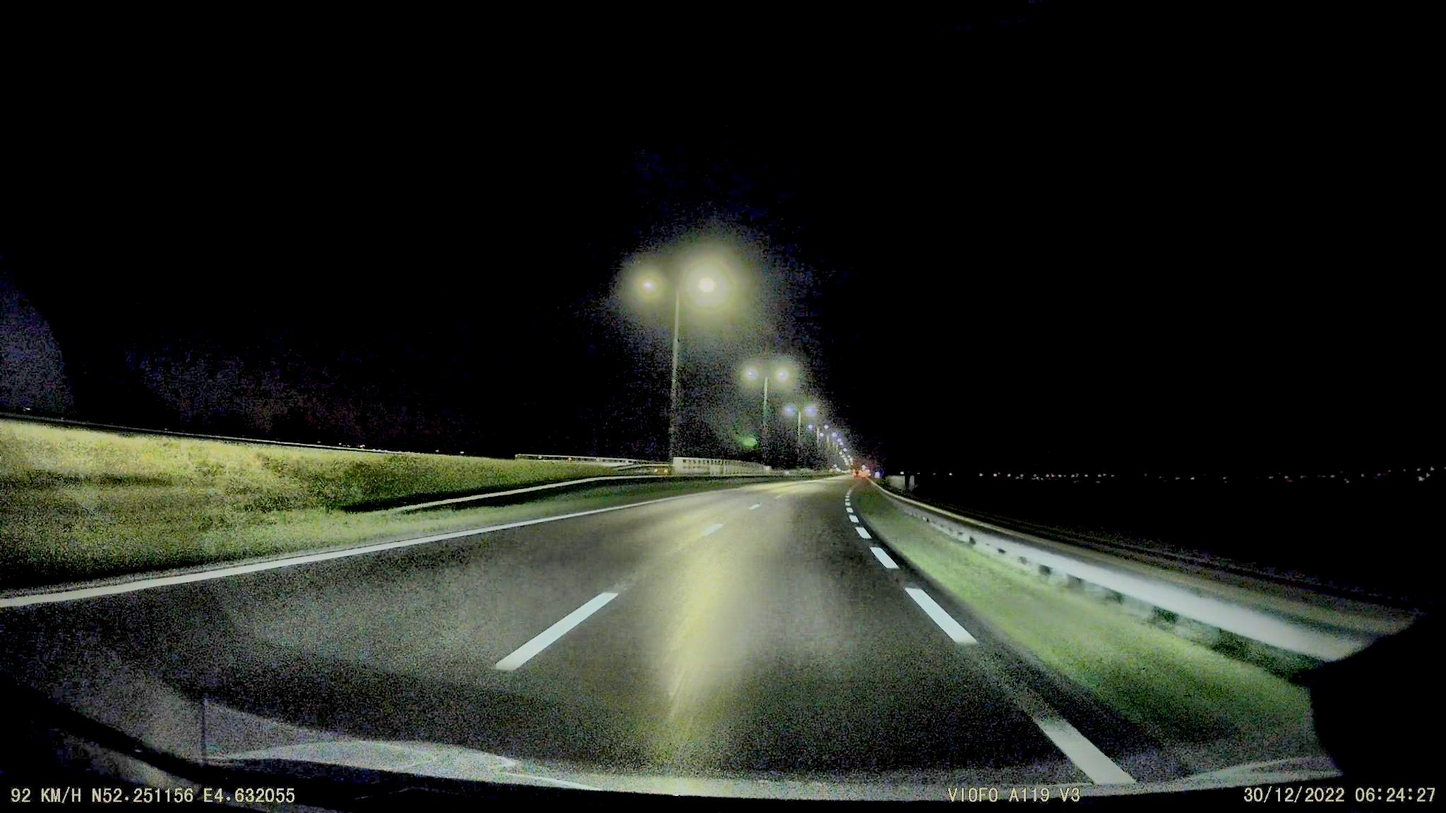Roads: (0, 478, 1096, 804)
